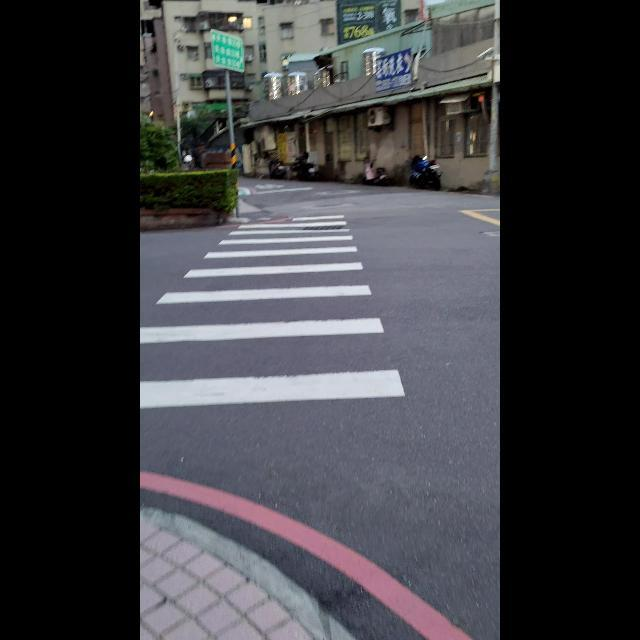sidewalk: (142, 216, 405, 404)
